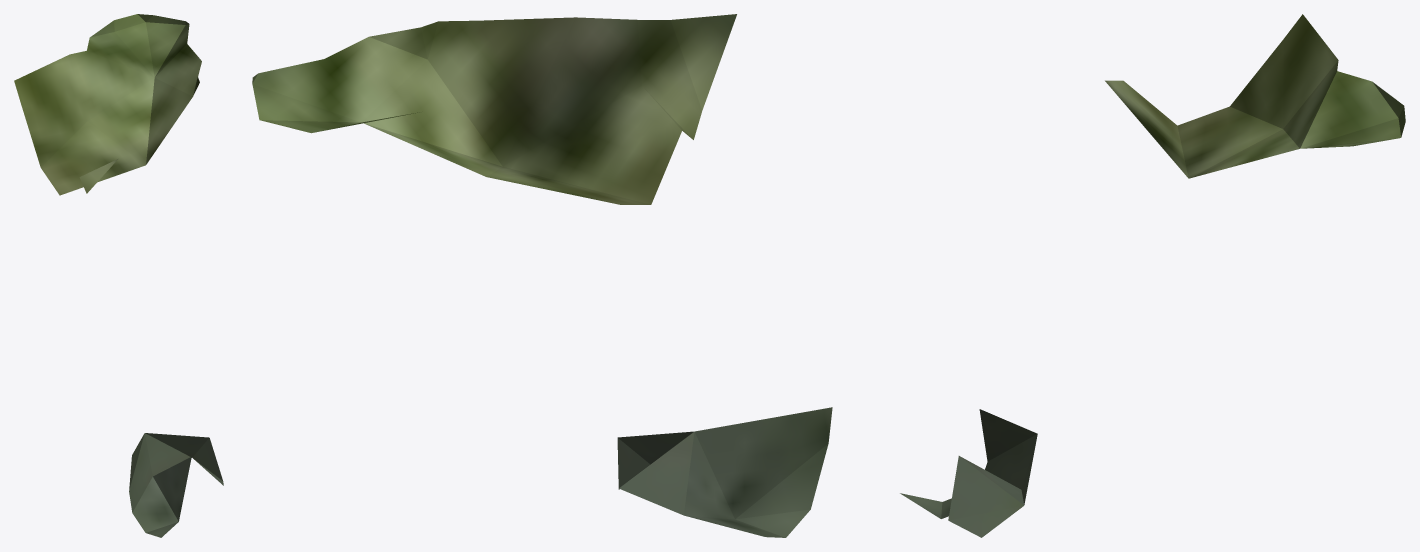
3 views of the same model, side by side, from view 1: azimuth 30°, elevation 25°; view 2: azimuth 150°, elevation 25°; view 3: azimuth 270°, elevation 25° (orthographic). The views are drawn at different scales.
Bounding box in the file's own units: 0.5664 × 1.01 × 1.03.
1 material, 1 textured.
